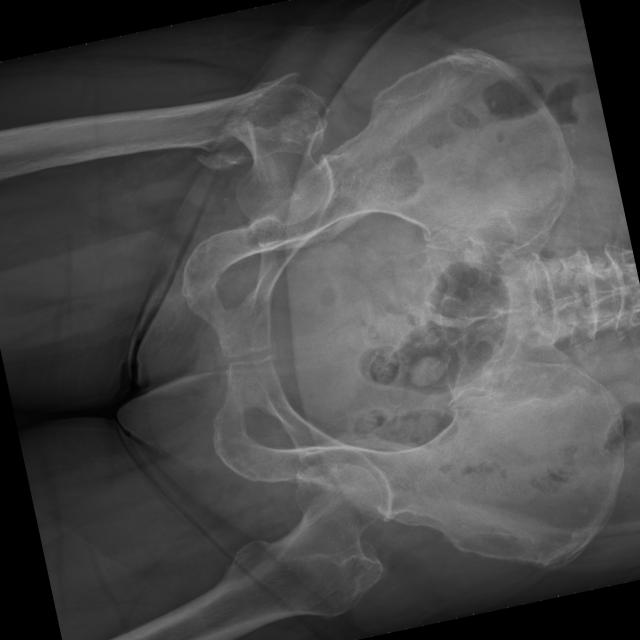normal-left: (153, 463, 387, 640)
right-intertrochanteric: (226, 85, 328, 226), (158, 73, 300, 152)
right-lesser-trochanter: (195, 149, 249, 170)
